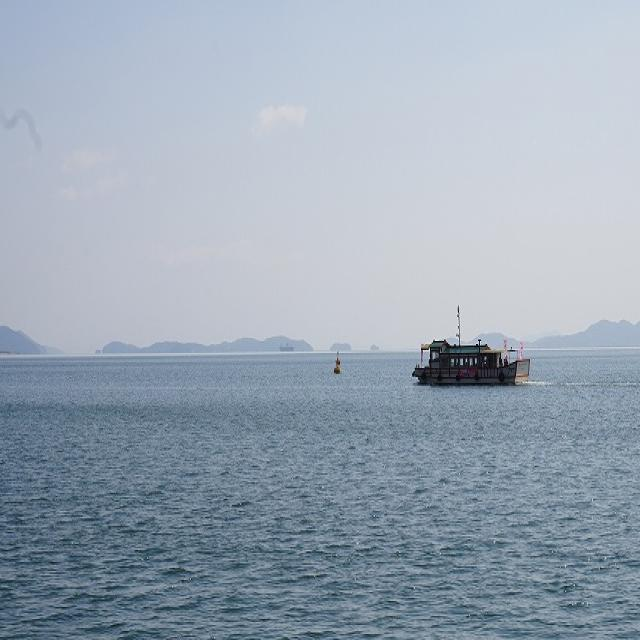buoy: (329, 343, 351, 385)
fishing boat: (409, 322, 533, 392)
